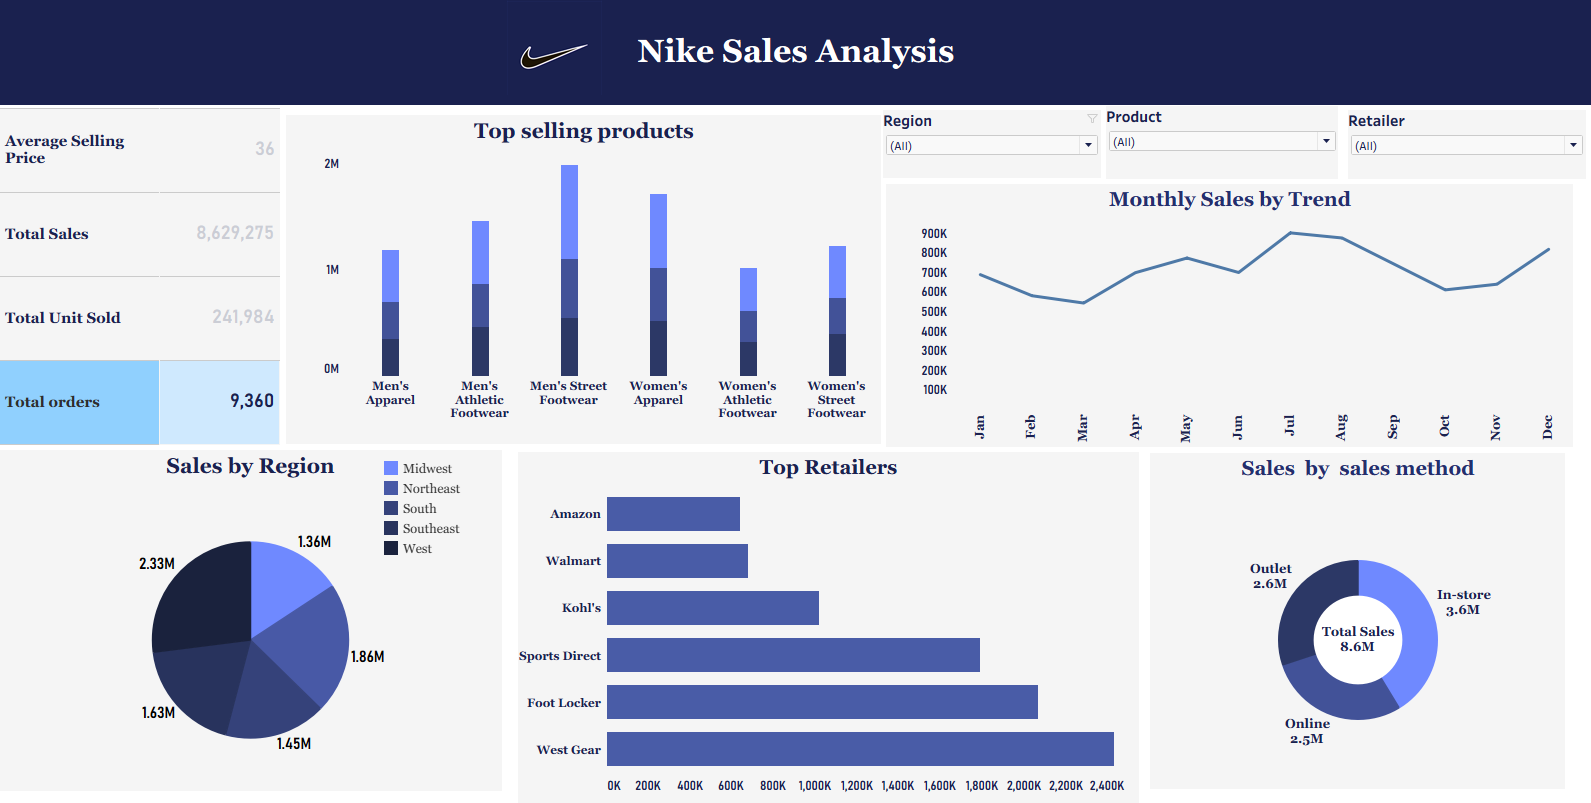

The dashboard page shown, as its layout file describes it:
{"tool":"tableau","page":{"name":"Dashboard 1","canvas":[1000,1000],"units":"permille","ordinal":0},"visuals":[{"type":"text","box":[4.5,16.1,994.8,128.7]},{"type":"image","param":"C:/Users/USER/Desktop/jasmin_Tableau/idha.PNG","box":[249.1,17.5,203.1,115.5]},{"type":"filter","title":"KPI","param":"[federated.181mj4z1h1ov4313sb75s0mb7570].[none:Product:nk]","box":[695.5,146.2,145.4,87.7]},{"type":"worksheet","title":"KPI","mark":"Automatic","box":[3.6,147.7,175.7,406.4]},{"type":"filter","title":"KPI","param":"[federated.181mj4z1h1ov4313sb75s0mb7570].[none:Region:nk]","box":[556.5,150.6,136.1,81.9]},{"type":"filter","title":"KPI","param":"[federated.181mj4z1h1ov4313sb75s0mb7570].[none:Retailer:nk]","box":[846.6,150.6,149,83.3]},{"type":"worksheet","title":"Top Selling Products","mark":"Bar","rows":["Total Sales"],"cols":["Product"],"box":[182.9,156.4,372.2,396.2]},{"type":"worksheet","title":"Monthly Sales by Trend","mark":"Line","rows":["Total Sales"],"cols":["Invoice Date"],"box":[558,239.8,429.8,317.2]},{"type":"worksheet","title":"Sales by region","mark":"Pie","box":[2.9,559.9,315.3,410.8]},{"type":"worksheet","title":"Top  Retailers","mark":"Automatic","rows":["Retailer"],"cols":["Total Sales"],"box":[328.3,562.9,388.1,425.4]},{"type":"worksheet","title":"Sales by sales method","mark":"Pie","rows":["Calculation_298082029384880135","Calculation_298082029384880135"],"box":[722.8,564.3,259.9,405]},{"type":"legend","title":"Sales by region","param":"[federated.181mj4z1h1ov4313sb75s0mb7570].[none:Region:nk]","box":[242.6,570.2,67.7,156.4]}]}

Visuals, with their boxes on the dashboard's canvas, which has no fixed pixel size, in thousandths of its width and height (x1, y1, x2, y2). These are canvas units, not pixel positions in the 1591x803 screenshot, which may show the page scaled, cropped or inside an application window:
text: [4, 16, 999, 145]
image: [249, 18, 452, 133]
"KPI" filter: [696, 146, 841, 234]
"KPI" worksheet: [4, 148, 179, 554]
"KPI" filter: [556, 151, 693, 232]
"KPI" filter: [847, 151, 996, 234]
"Top Selling Products" worksheet (Bar marks): [183, 156, 555, 553]
"Monthly Sales by Trend" worksheet (Line marks): [558, 240, 988, 557]
"Sales by region" worksheet (Pie marks): [3, 560, 318, 971]
"Top  Retailers" worksheet: [328, 563, 716, 988]
"Sales by sales method" worksheet (Pie marks): [723, 564, 983, 969]
"Sales by region" legend: [243, 570, 310, 727]
